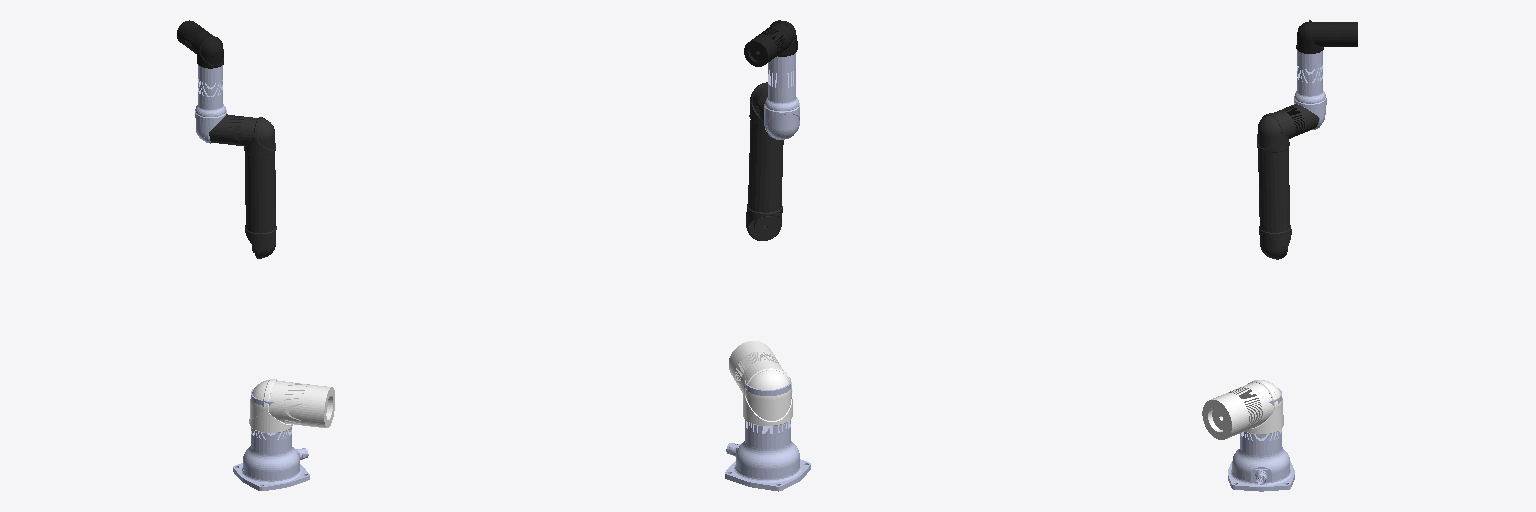
The robot description file, URDF, robot "ros_solid":
<?xml version="1.0" encoding="utf-8"?>
<robot
  name="ros_solid">
  <link
    name="base_link">
    <inertial>
      <origin
        xyz="0.00052883 0.065606 4.739E-08"
        rpy="0 0 0" />
      <mass
        value="1.3785" />
      <inertia
        ixx="0.0019643"
        ixy="-1.8781E-06"
        ixz="-2.772E-09"
        iyy="0.0020096"
        iyz="-5.89E-10"
        izz="0.0019566" />
    </inertial>
    <visual>
      <origin
        xyz="0 0 0"
        rpy="0 0 0" />
      <geometry>
        <mesh
          filename="package://ros_solid/meshes/base_link.STL" />
      </geometry>
      <material
        name="">
        <color
          rgba="0.79216 0.81961 0.93333 1" />
      </material>
    </visual>
    <collision>
      <origin
        xyz="0 0 0"
        rpy="0 0 0" />
      <geometry>
        <mesh
          filename="package://ros_solid/meshes/base_link.STL" />
      </geometry>
    </collision>
  </link>
  <link
    name="link1">
    <inertial>
      <origin
        xyz="-4.4701E-08 0.06629 -0.04822"
        rpy="0 0 0" />
      <mass
        value="0.93289" />
      <inertia
        ixx="0.0013929"
        ixy="2.3048E-09"
        ixz="-1.3711E-09"
        iyy="0.0014071"
        iyz="1.9525E-06"
        izz="0.00099172" />
    </inertial>
    <visual>
      <origin
        xyz="0 0 0"
        rpy="0 0 0" />
      <geometry>
        <mesh
          filename="package://ros_solid/meshes/link1.STL" />
      </geometry>
      <material
        name="">
        <color
          rgba="1 1 1 1" />
      </material>
    </visual>
    <collision>
      <origin
        xyz="0 0 0"
        rpy="0 0 0" />
      <geometry>
        <mesh
          filename="package://ros_solid/meshes/link1.STL" />
      </geometry>
    </collision>
  </link>
  <joint
    name="joint1"
    type="revolute">
    <origin
      xyz="0 0 0.15719"
      rpy="1.5708 0 0.77334" />
    <parent
      link="base_link" />
    <child
      link="link1" />
    <axis
      xyz="0 1 0" />
    <limit
      lower="0"
      upper="0"
      effort="0"
      velocity="0" />
  </joint>
  <link
    name="link2">
    <inertial>
      <origin
        xyz="5.7084E-08 0.16627 -0.12481"
        rpy="0 0 0" />
      <mass
        value="1.3179" />
      <inertia
        ixx="0.0059696"
        ixy="-3.4502E-09"
        ixz="5.2844E-09"
        iyy="0.0012808"
        iyz="-6.8927E-05"
        izz="0.0056022" />
    </inertial>
    <visual>
      <origin
        xyz="0 0 0"
        rpy="0 0 0" />
      <geometry>
        <mesh
          filename="package://ros_solid/meshes/link2.STL" />
      </geometry>
      <material
        name="">
        <color
          rgba="0.24314 0.24314 0.24314 1" />
      </material>
    </visual>
    <collision>
      <origin
        xyz="0 0 0"
        rpy="0 0 0" />
      <geometry>
        <mesh
          filename="package://ros_solid/meshes/link2.STL" />
      </geometry>
    </collision>
  </link>
  <joint
    name="joint2"
    type="revolute">
    <origin
      xyz="0 0.073909 0"
      rpy="0 0 0" />
    <parent
      link="link1" />
    <child
      link="link2" />
    <axis
      xyz="0 0 1" />
    <limit
      lower="0"
      upper="0"
      effort="0"
      velocity="0" />
  </joint>
  <link
    name="link3">
    <inertial>
      <origin
        xyz="-8.8685E-08 0.16814 -0.039356"
        rpy="0 0 0" />
      <mass
        value="1.1005" />
      <inertia
        ixx="0.0035891"
        ixy="-2.6063E-09"
        ixz="9.9364E-10"
        iyy="0.0010193"
        iyz="5.8848E-05"
        izz="0.0031614" />
    </inertial>
    <visual>
      <origin
        xyz="0 0 0"
        rpy="0 0 0" />
      <geometry>
        <mesh
          filename="package://ros_solid/meshes/link3.STL" />
      </geometry>
      <material
        name="">
        <color
          rgba="0.24314 0.24314 0.24314 1" />
      </material>
    </visual>
    <collision>
      <origin
        xyz="0 0 0"
        rpy="0 0 0" />
      <geometry>
        <mesh
          filename="package://ros_solid/meshes/link3.STL" />
      </geometry>
    </collision>
  </link>
  <joint
    name="joint3"
    type="revolute">
    <origin
      xyz="0 0.2845 0"
      rpy="0 0 0" />
    <parent
      link="link2" />
    <child
      link="link3" />
    <axis
      xyz="0 0 1" />
    <limit
      lower="0"
      upper="0"
      effort="0"
      velocity="0" />
  </joint>
  <link
    name="link4">
    <inertial>
      <origin
        xyz="-7.3628E-08 0.068878 -0.0838"
        rpy="0 0 0" />
      <mass
        value="0.33399" />
      <inertia
        ixx="0.00074999"
        ixy="-8.0761E-10"
        ixz="-1.9511E-09"
        iyy="0.00014122"
        iyz="-4.2265E-06"
        izz="0.00076699" />
    </inertial>
    <visual>
      <origin
        xyz="0 0 0"
        rpy="0 0 0" />
      <geometry>
        <mesh
          filename="package://ros_solid/meshes/link4.STL" />
      </geometry>
      <material
        name="">
        <color
          rgba="0.79216 0.81961 0.93333 1" />
      </material>
    </visual>
    <collision>
      <origin
        xyz="0 0 0"
        rpy="0 0 0" />
      <geometry>
        <mesh
          filename="package://ros_solid/meshes/link4.STL" />
      </geometry>
    </collision>
  </link>
  <joint
    name="joint4"
    type="revolute">
    <origin
      xyz="0 0.259 -0.051491"
      rpy="0 0 0" />
    <parent
      link="link3" />
    <child
      link="link4" />
    <axis
      xyz="0 0 1" />
    <limit
      lower="0"
      upper="0"
      effort="0"
      velocity="0" />
  </joint>
  <link
    name="link5">
    <inertial>
      <origin
        xyz="-4.2455E-08 0.04202 -0.032032"
        rpy="0 0 0" />
      <mass
        value="0.28635" />
      <inertia
        ixx="0.00040931"
        ixy="-1.0579E-10"
        ixz="4.7361E-10"
        iyy="0.00039293"
        iyz="3.5569E-05"
        izz="0.00012323" />
    </inertial>
    <visual>
      <origin
        xyz="0 0 0"
        rpy="0 0 0" />
      <geometry>
        <mesh
          filename="package://ros_solid/meshes/link5.STL" />
      </geometry>
      <material
        name="">
        <color
          rgba="0.18039 0.18039 0.18039 1" />
      </material>
    </visual>
    <collision>
      <origin
        xyz="0 0 0"
        rpy="0 0 0" />
      <geometry>
        <mesh
          filename="package://ros_solid/meshes/link5.STL" />
      </geometry>
    </collision>
  </link>
  <joint
    name="join5"
    type="revolute">
    <origin
      xyz="0 0.13684 -0.083609"
      rpy="0 -0.77334 0" />
    <parent
      link="link4" />
    <child
      link="link5" />
    <axis
      xyz="0 1 0" />
    <limit
      lower="0"
      upper="0"
      effort="0"
      velocity="0" />
  </joint>
  <link
    name="link6">
    <inertial>
      <origin
        xyz="6.1086E-05 0.00050039 -0.022568"
        rpy="0 0 0" />
      <mass
        value="0.065353" />
      <inertia
        ixx="2.8836E-05"
        ixy="6.9117E-09"
        ixz="-7.6528E-08"
        iyy="2.884E-05"
        iyz="2.1228E-08"
        izz="3.5117E-05" />
    </inertial>
    <visual>
      <origin
        xyz="0 0 0"
        rpy="0 0 0" />
      <geometry>
        <mesh
          filename="package://ros_solid/meshes/link6.STL" />
      </geometry>
      <material
        name="">
        <color
          rgba="0.24314 0.24314 0.24314 1" />
      </material>
    </visual>
    <collision>
      <origin
        xyz="0 0 0"
        rpy="0 0 0" />
      <geometry>
        <mesh
          filename="package://ros_solid/meshes/link6.STL" />
      </geometry>
    </collision>
  </link>
  <joint
    name="joint6"
    type="revolute">
    <origin
      xyz="0 0.045662 -0.0912"
      rpy="0 0 0" />
    <parent
      link="link5" />
    <child
      link="link6" />
    <axis
      xyz="0 0 1" />
    <limit
      lower="0"
      upper="0"
      effort="0"
      velocity="0" />
  </joint>
</robot>

--- What the picture shows (computed from the rendered views, not written in the file) ---
The picture shows the robot from 3 angles, left to right: view 1: azimuth 30°, elevation 25°; view 2: azimuth 150°, elevation 25°; view 3: azimuth 270°, elevation 25°; orthographic projection.
Model ros_solid with 7 links and 6 joints (6 revolute), rooted at base_link, posed every joint at zero.
Visible links, largest first — view 1: link3, link1, base_link, link4, link5; view 2: base_link, link3, link1, link4, link5; view 3: link3, link1, base_link, link4, link5.
Link boxes in pixels (<box>): link3: <box>209,114,276,258</box>; link1: <box>249,379,334,432</box>; base_link: <box>233,389,309,490</box>; link4: <box>195,65,226,143</box>; link5: <box>177,20,223,68</box>; base_link: <box>725,377,810,491</box>; link3: <box>746,82,783,240</box>; link1: <box>729,341,792,425</box>; link4: <box>764,53,799,139</box>; link5: <box>744,20,797,66</box>; link3: <box>1257,104,1318,259</box>; link1: <box>1202,380,1283,439</box>; base_link: <box>1228,388,1294,491</box>; link4: <box>1294,50,1326,129</box>; link5: <box>1296,20,1357,53</box>.
Bounding box of the posed robot: 0.2444 × 0.3223 × 1 m (x, y, z).
5 mesh visuals loaded from 7 distinct referenced files (5 binary STL); not drawn: 2 (reference not matched to a file when rendering).